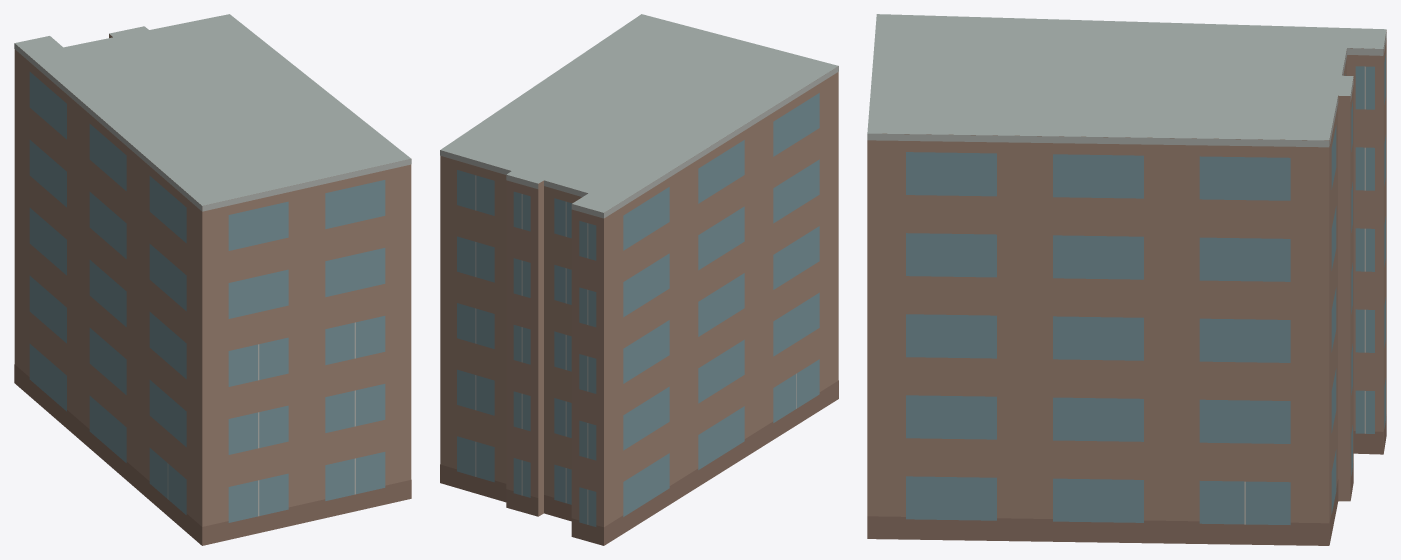
The model's file is survey-upis-32749864.glb.
3 renders of one model, left to right at view 1: azimuth 30°, elevation 25°; view 2: azimuth 150°, elevation 25°; view 3: azimuth 270°, elevation 25°, orthographic. The views are drawn at different scales.
Parts seen in each view (by area): view 1: survey-upis-32749864.tmp; view 2: survey-upis-32749864.tmp; view 3: survey-upis-32749864.tmp.
Part boxes in pixels (x1,y1,x2,y2): survey-upis-32749864.tmp: (14, 14, 411, 545); survey-upis-32749864.tmp: (440, 14, 838, 545); survey-upis-32749864.tmp: (867, 14, 1386, 545).
Size of the model in its own units: 9.64 by 14.4 by 16.73.
